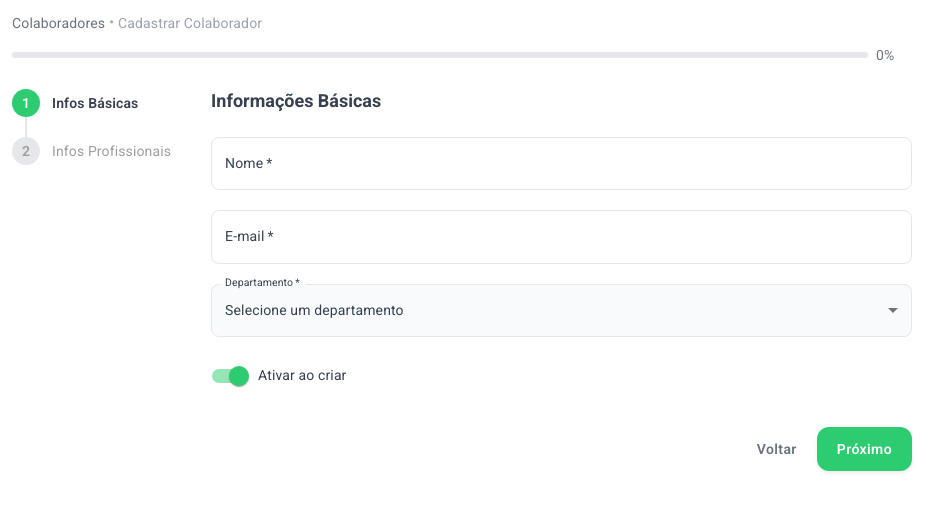
Test: NovoColaborador (widget) › com departamento permite avançar para o próximo passo
The image size is (935, 513).
Type "João" into the field labelled "Nome *" at (562, 164), box 211,137 -> 912,190
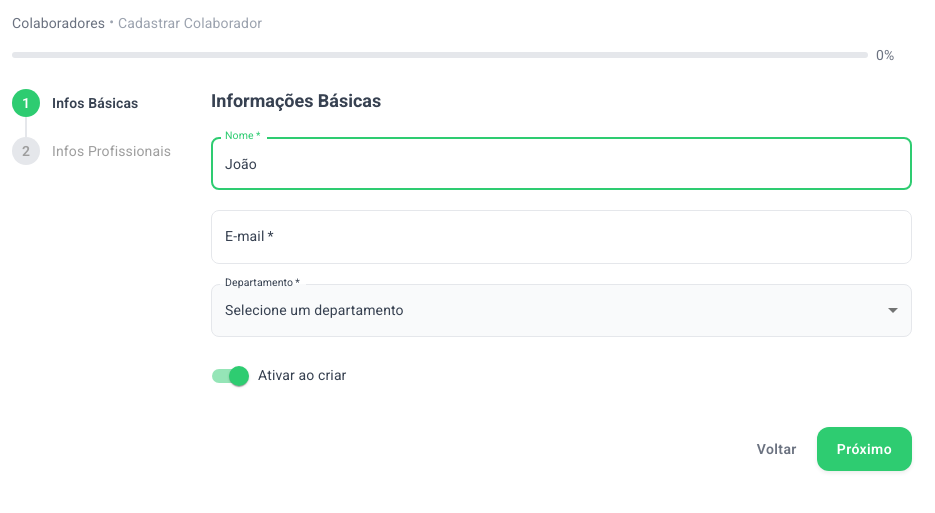
Type "joao@empresa.com" into the field labelled "E-mail *" at (562, 237), box 211,210 -> 912,264
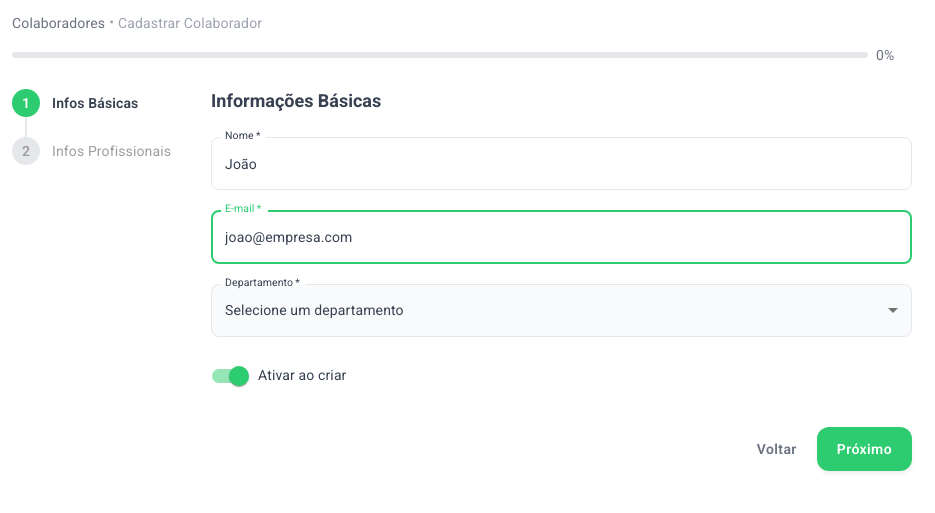
Click the dropdown labelled "Selecione um departamento" at (314, 310), box 225,302 -> 404,318
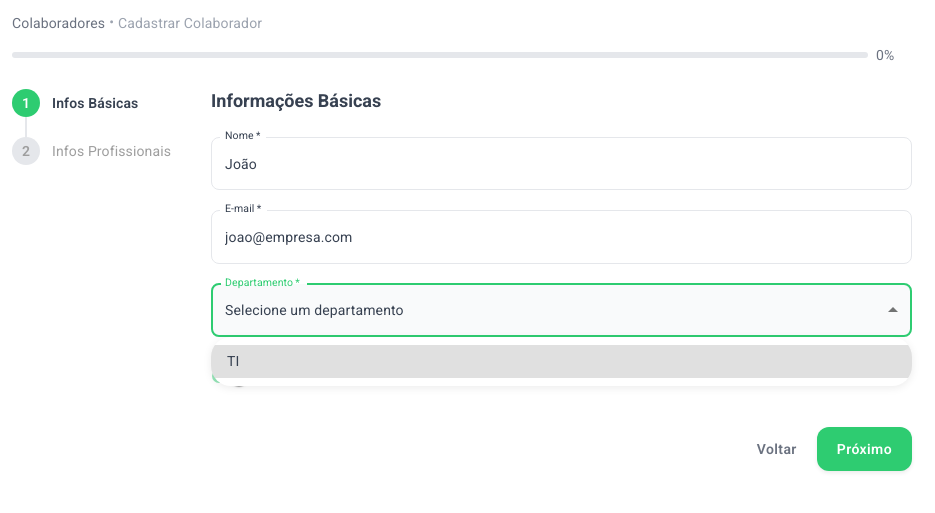
Click the option "TI" at (233, 361), box 211,345 -> 912,378
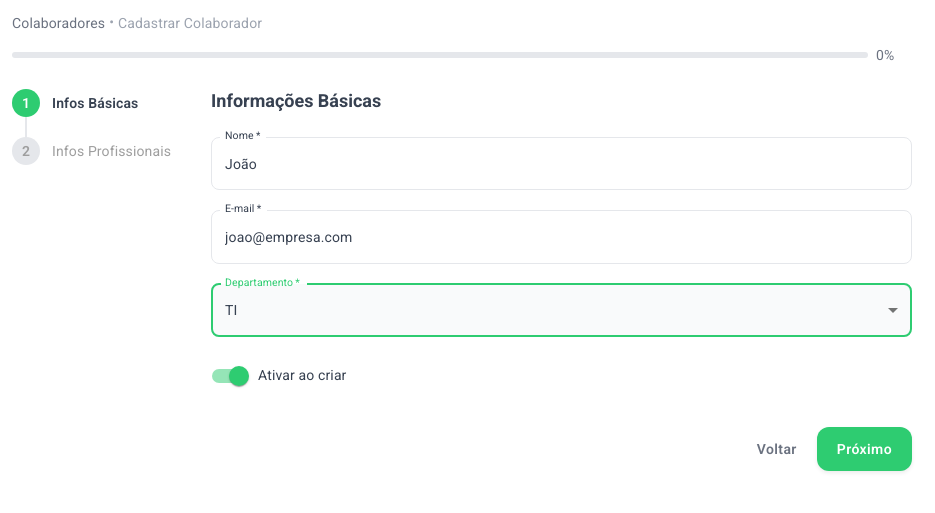
Click the button "Próximo" at (864, 449), box 817,427 -> 912,471
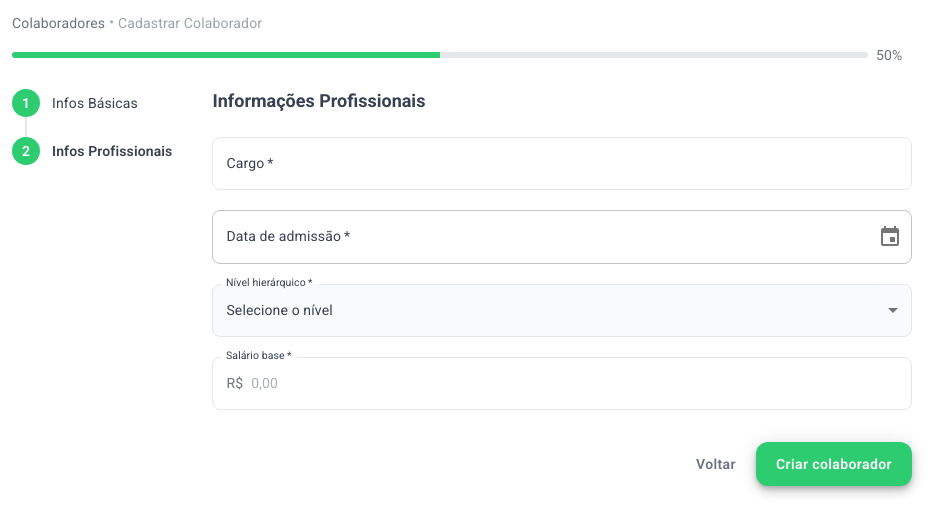
Expected: the heading "Informações Profissionais" is shown, 212,90 -> 425,111
Expected: the field labelled "Cargo *" is shown, 212,137 -> 912,190
